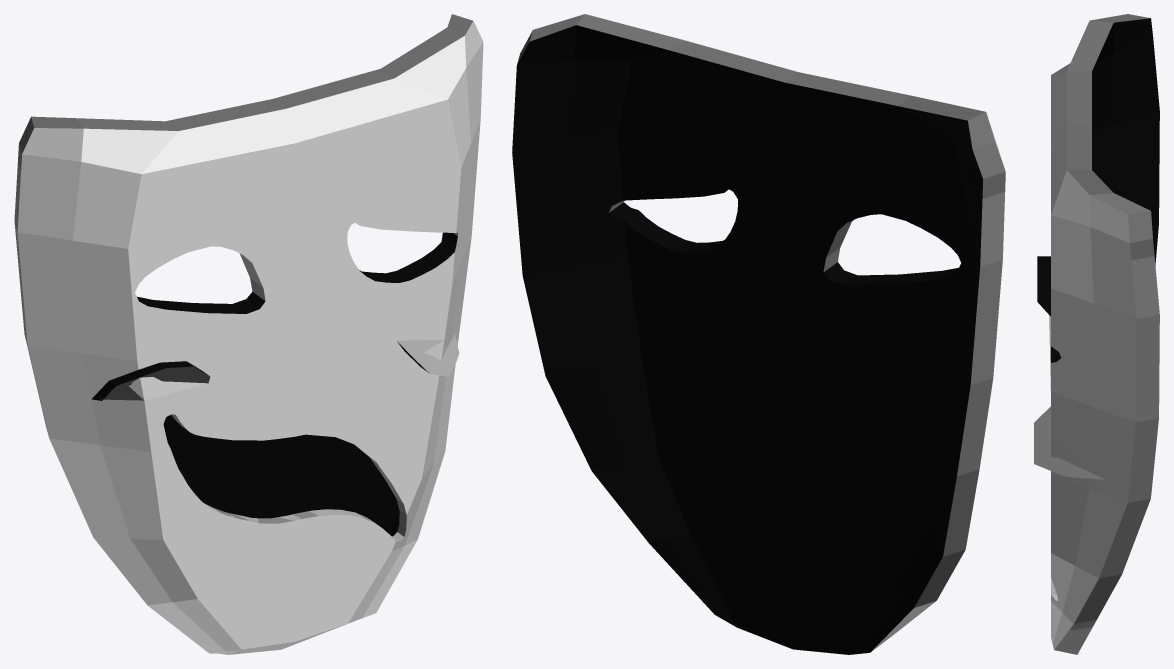
File: HyperMask.fbx
The picture shows the model from 3 angles, left to right: view 1: azimuth 30°, elevation 25°; view 2: azimuth 150°, elevation 25°; view 3: azimuth 270°, elevation 25°; orthographic projection. The views are drawn at different scales.
Parts seen in each view (by area): view 1: Cube; view 2: Cube; view 3: Cube.
Part boxes in pixels (<box>): Cube: <box>14,14,483,654</box>; Cube: <box>512,14,1005,654</box>; Cube: <box>1034,14,1159,654</box>.
Size of the model in its own units: 39.83 by 46.22 by 9.99.
